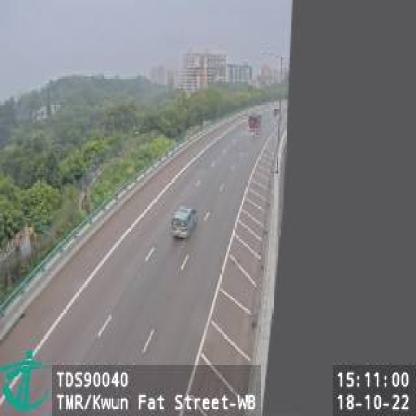Car: (170, 204, 199, 241)
Truck: (247, 106, 264, 131)
